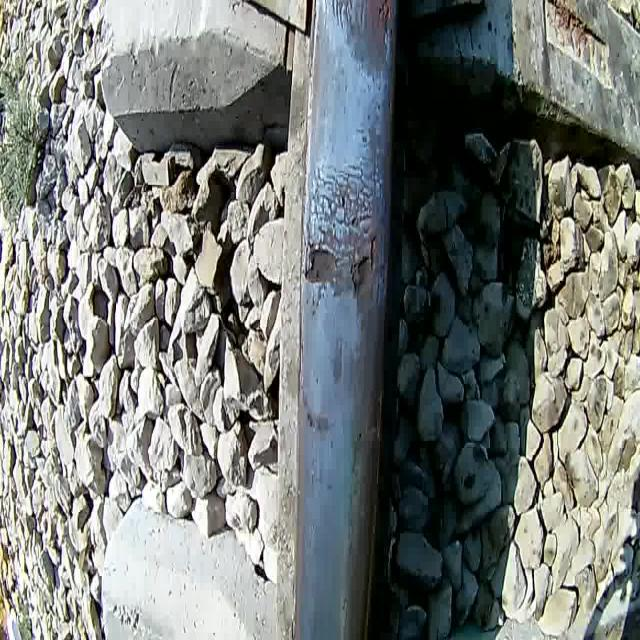Cracks: (330, 0, 366, 33)
Spallings: (300, 232, 342, 292), (346, 228, 380, 300), (376, 0, 393, 45)
Squats: (297, 136, 389, 332), (328, 0, 398, 97), (304, 386, 332, 447), (327, 334, 350, 390)
